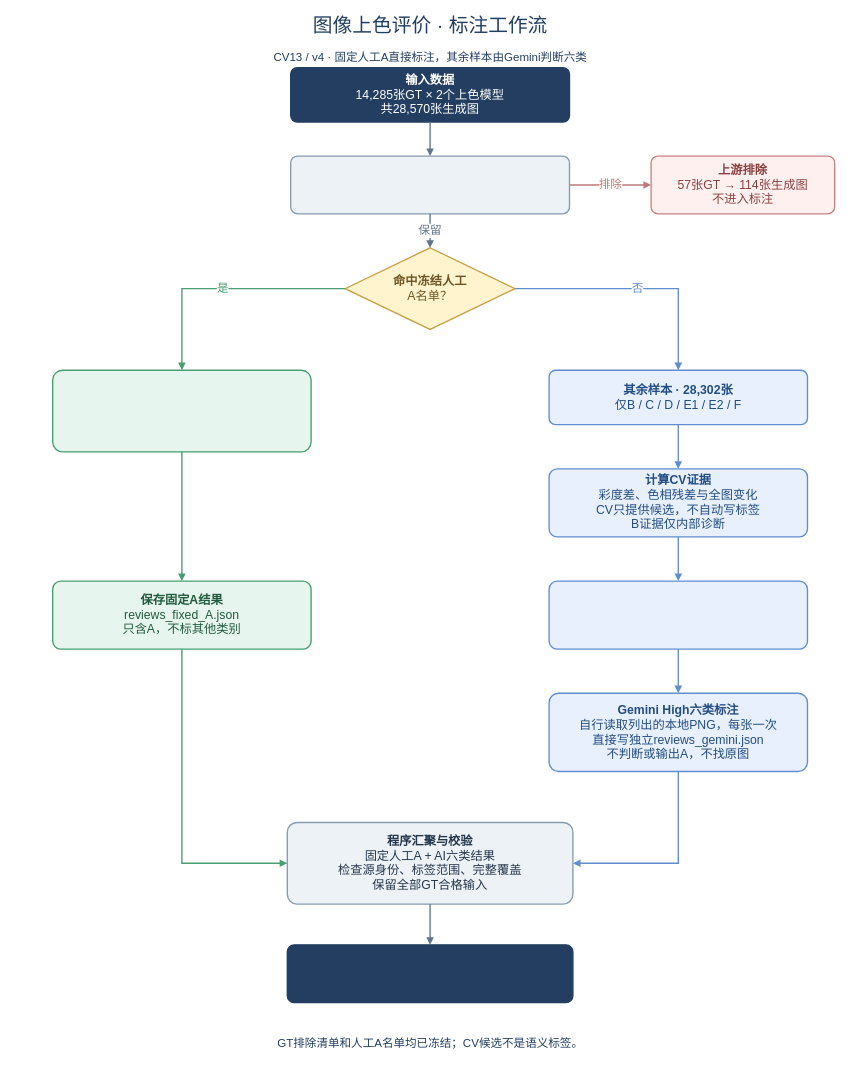
The diagram is 860 pixels wide and 1068 high, and some of its shapes have lost their labels. Each missing label, with the box of its shape:
固定A · 154张 仅标A命中 · severity为空 评分1.0 不做CV / 看板 / AI: (52, 369, 311, 452)
按冻结GT清单过滤 保留28,456张生成图 GT资格不在下游复审: (290, 155, 570, 214)
生成匿名六组看板 每组：GT / 生成图 / 差分图 匿名S编号，无原图路径、旧标签: (548, 580, 808, 649)
统一标注结果 标签JSON / 标注任务流 / 来源记录: (286, 944, 573, 1003)
